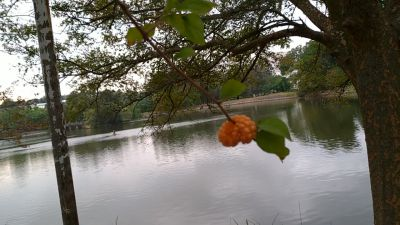eggs: (219, 113, 258, 148)
